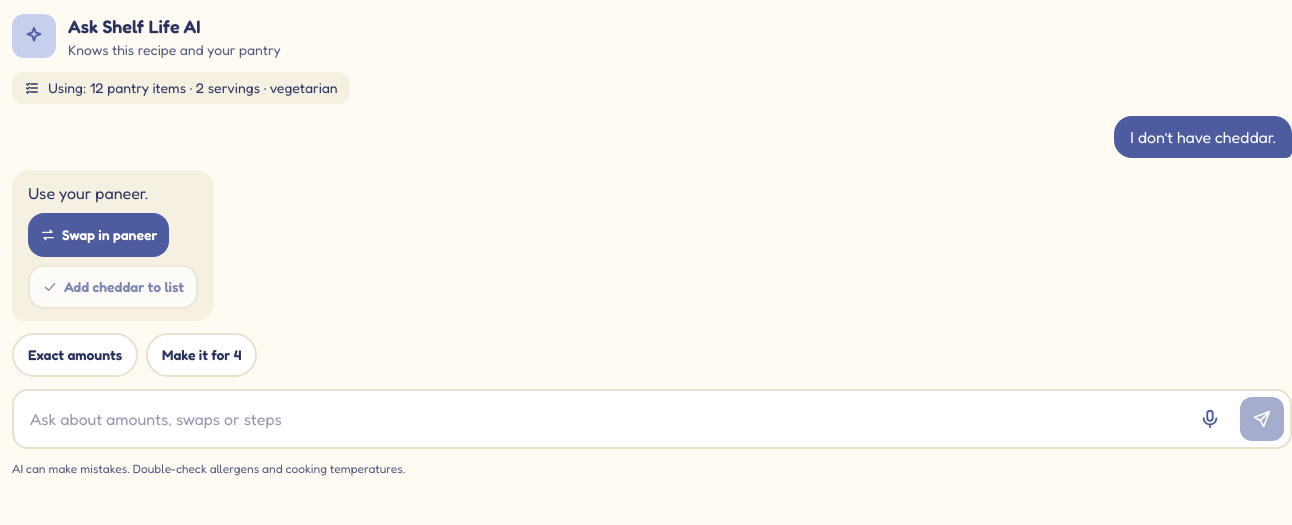
Test: ChatPanel (RCP-8, RCP-9) › voice: offered only where supported, with the privacy note the first time
This screenshot has width=1292, height=525.
Click the button named "Speak your question" at (1210, 419), box x1=1188 y1=397 x2=1232 y2=441
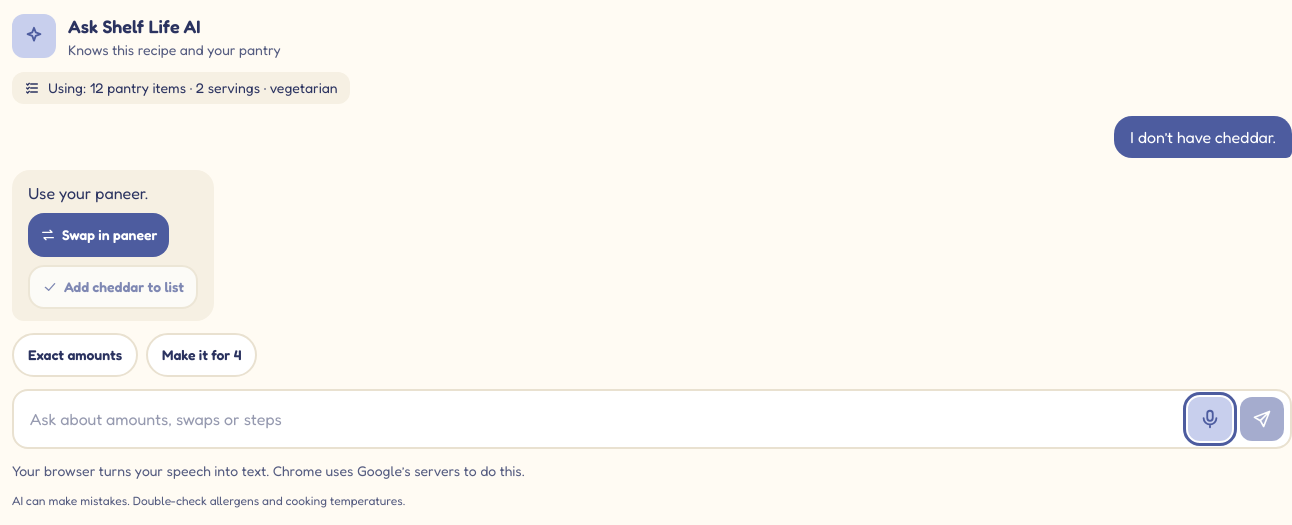
Expected: the text "Chrome uses Google’s servers" is shown, x1=12 y1=462 x2=525 y2=479
